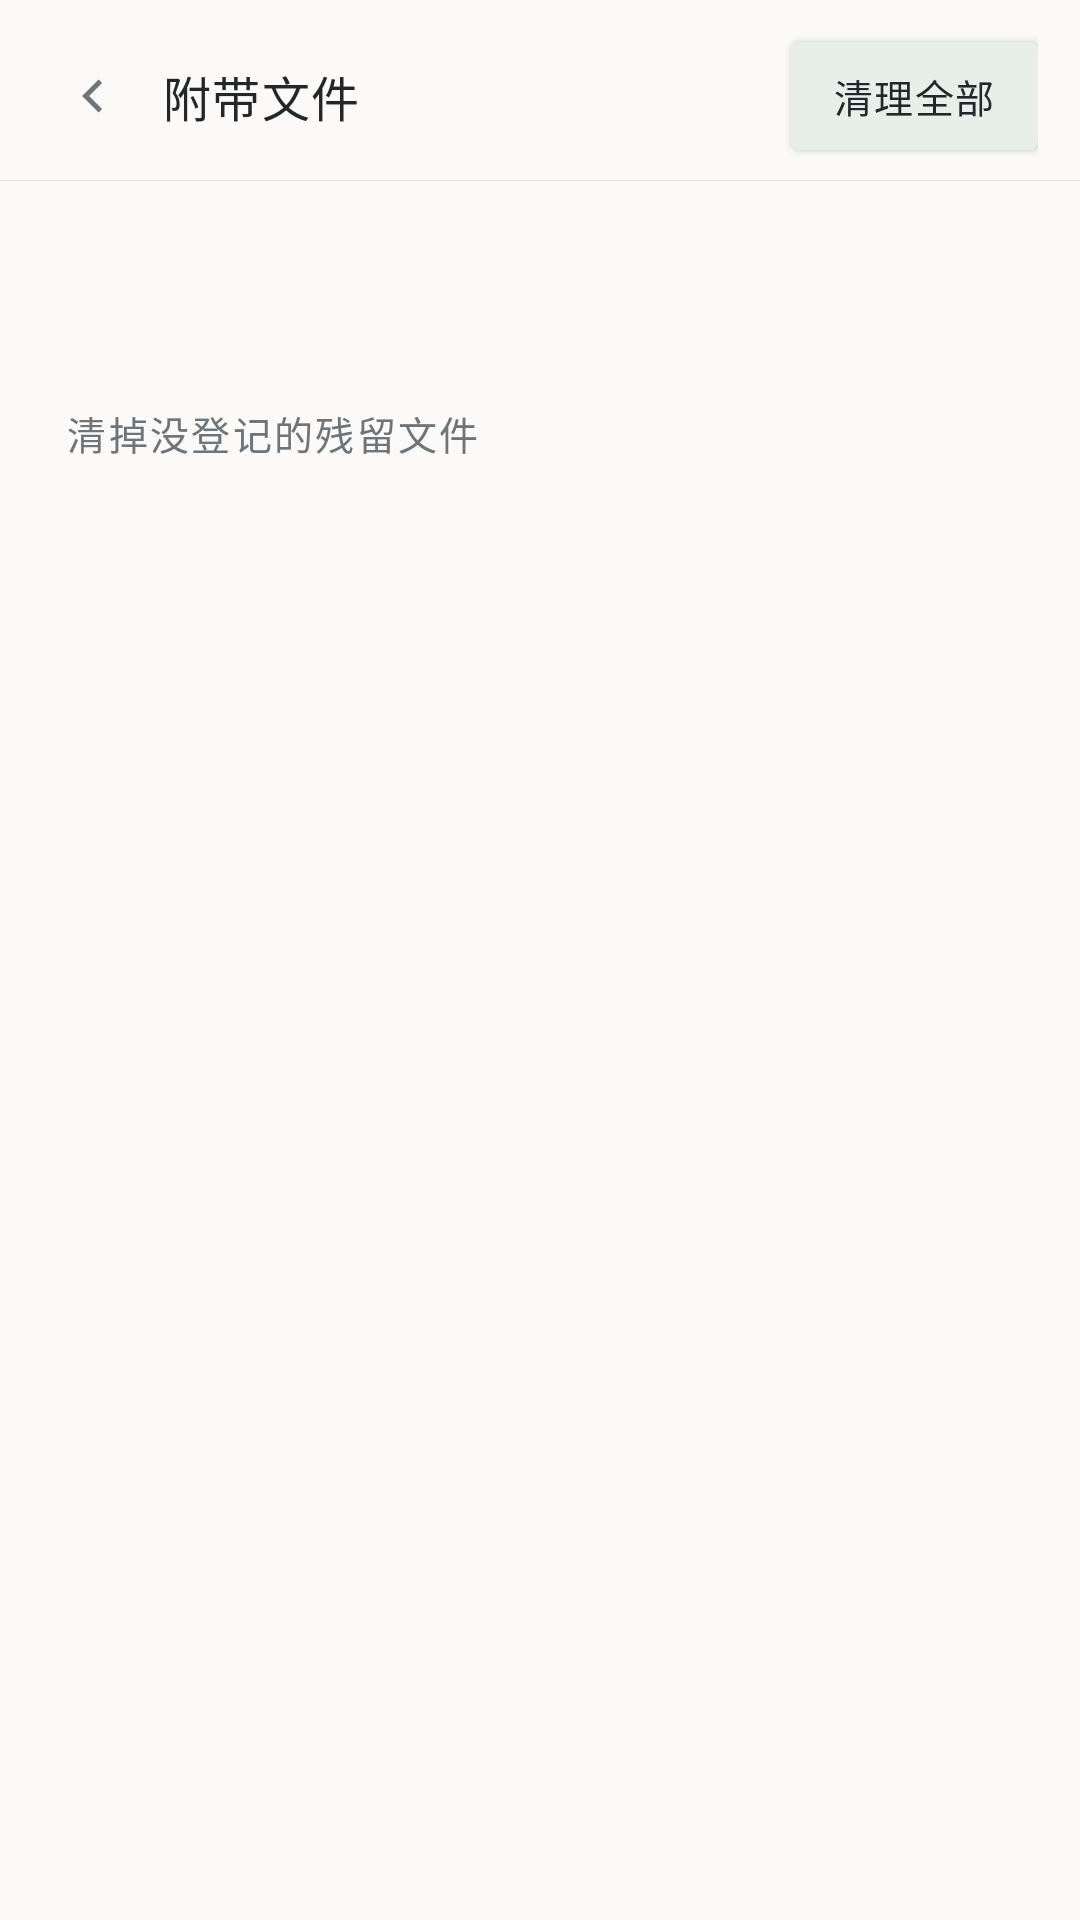

Icons on this 1080w x 1920h Android screen, each with its box as (x1, y1, x2, y2):
返回: (82, 79, 102, 113)
